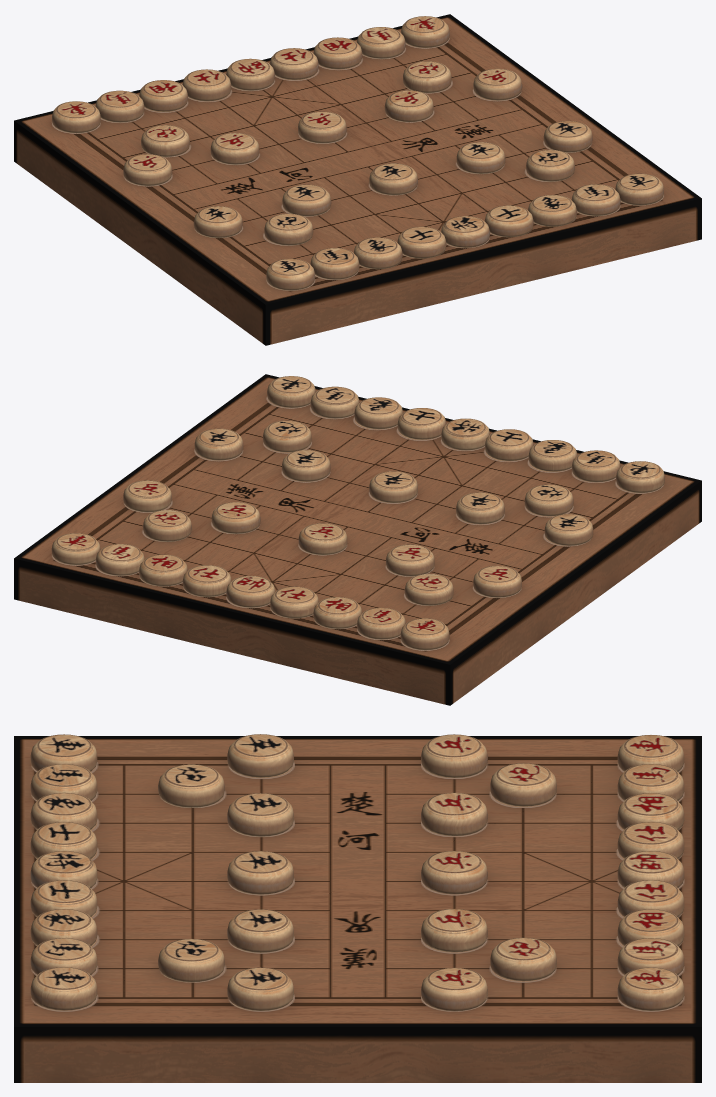
File: chinese_chess.glb
3 views of the same model, one above another, from view 1: azimuth 30°, elevation 25°; view 2: azimuth 150°, elevation 25°; view 3: azimuth 270°, elevation 25° (orthographic). The views are drawn at different scales.
Parts seen in each view (by area): view 1: checkerboard, Cannon_4, Soldier_2, Soldier_5, Soldier_3, Soldier_10, Soldier, Soldier_9, Soldier_7, Chariot_4, Soldier_8, Soldier_4 (+21 smaller); view 2: checkerboard, Soldier_10, Soldier_6, Soldier_9, Soldier_5, Soldier_4, Chariot, Cannon_3, Cannon_4, Soldier_8, Soldier_2, Cannon (+21 smaller); view 3: checkerboard, Cannon_4, Chariot_2, Soldier_7, Cannon, Soldier_9, Soldier_10, Soldier, Soldier_8, Chariot_3, Soldier_6, Cannon_2 (+21 smaller).
Boxes of the visible parts, left/top/right/bottom form: checkerboard: left=14, top=14, right=701, bottom=345; Cannon_4: left=264, top=213, right=313, bottom=245; Soldier_2: left=210, top=132, right=259, bottom=164; Soldier_5: left=473, top=68, right=522, bottom=100; Soldier_3: left=298, top=111, right=346, bottom=143; Soldier_10: left=193, top=206, right=242, bottom=237; Soldier: left=123, top=154, right=172, bottom=185; Soldier_9: left=282, top=184, right=331, bottom=216; Soldier_7: left=456, top=142, right=505, bottom=173; Chariot_4: left=266, top=258, right=314, bottom=290; Soldier_8: left=369, top=163, right=417, bottom=195; Soldier_4: left=384, top=90, right=433, bottom=122; checkerboard: left=14, top=374, right=701, bottom=705; Soldier_10: left=544, top=514, right=593, bottom=545; Soldier_6: left=194, top=428, right=243, bottom=460; Soldier_9: left=456, top=492, right=504, bottom=524; Soldier_5: left=123, top=480, right=171, bottom=512; Soldier_4: left=211, top=502, right=260, bottom=533; Chariot: left=400, top=618, right=449, bottom=650; Cannon_3: left=263, top=420, right=311, bottom=452; Cannon_4: left=524, top=484, right=573, bottom=516; Soldier_8: left=369, top=471, right=417, bottom=502; Soldier_2: left=386, top=544, right=434, bottom=576; Cannon: left=404, top=573, right=453, bottom=605; checkerboard: left=14, top=736, right=701, bottom=1082; Cannon_4: left=158, top=764, right=224, bottom=807; Chariot_2: left=617, top=967, right=684, bottom=1010; Soldier_7: left=227, top=909, right=293, bottom=952; Cannon: left=490, top=763, right=556, bottom=806; Soldier_9: left=227, top=793, right=293, bottom=836; Soldier_10: left=227, top=734, right=293, bottom=777; Soldier: left=421, top=734, right=487, bottom=777; Soldier_8: left=227, top=851, right=293, bottom=894; Chariot_3: left=30, top=967, right=97, bottom=1010; Soldier_6: left=227, top=967, right=293, bottom=1010; Cannon_2: left=490, top=937, right=556, bottom=981.
Size of the model in its own units: 200 by 24.25 by 200.
1 material, 1 textured.
